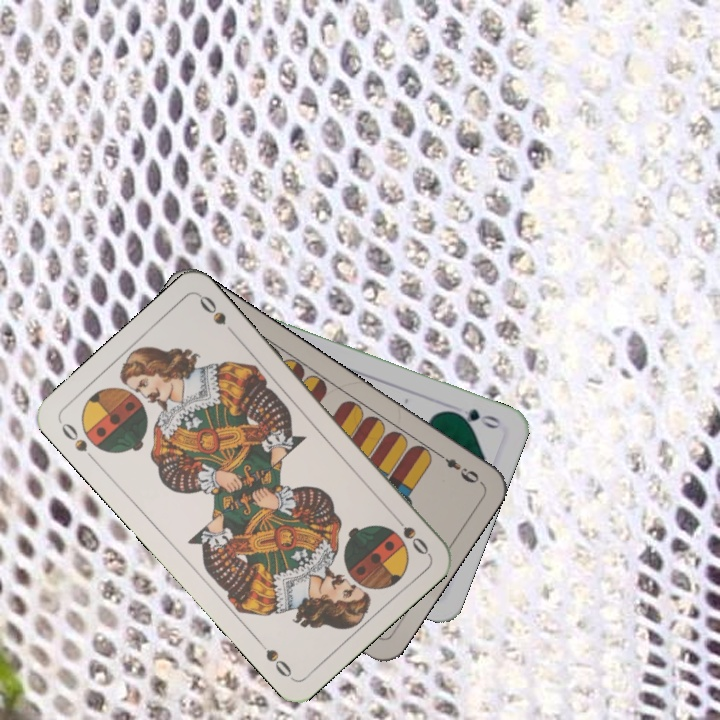E9: (432, 447, 482, 486)
GO: (446, 404, 504, 432)
SO: (387, 509, 432, 558), (56, 418, 100, 466)
